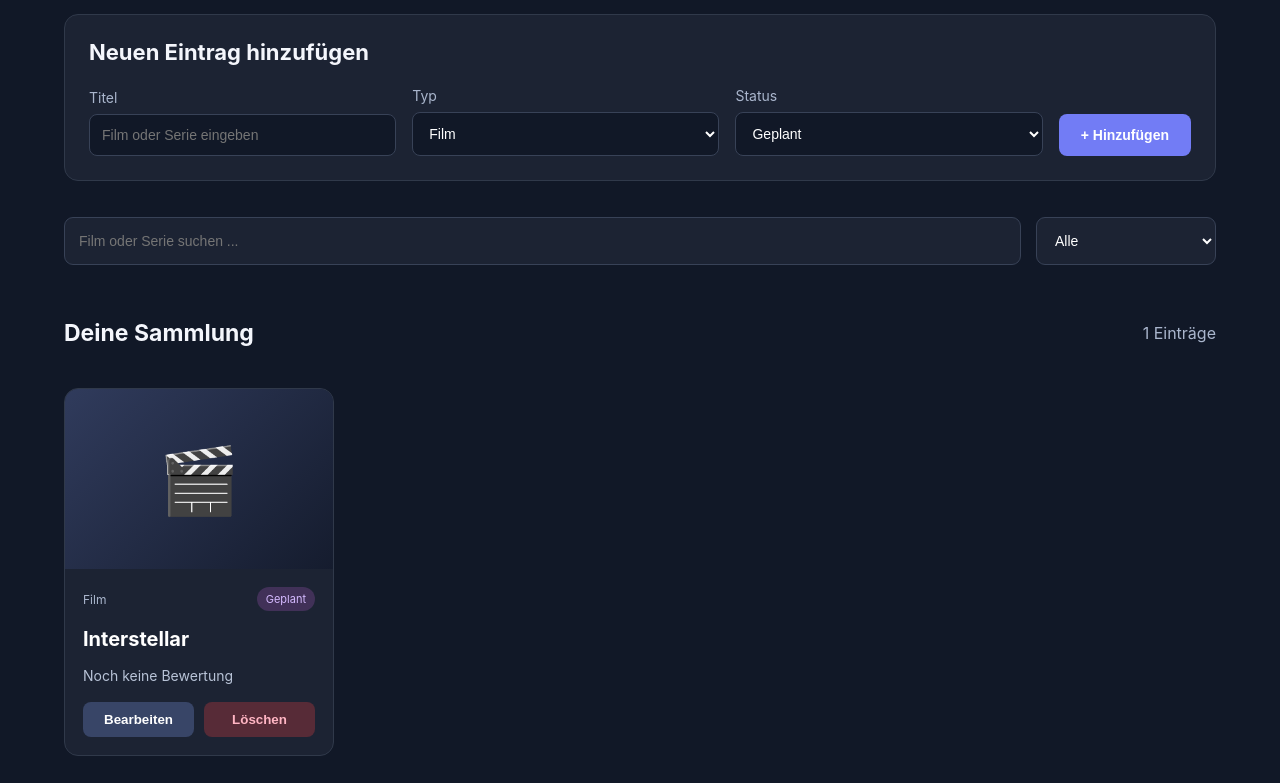
Test: MyWatchlist – Frontend › zeigt Validierungsfehler beim Bearbeiten und behält die Eingabe
The width and height of the screenshot is (1280, 783).
(page scrolled)
Click the button with class "edit-button" at (138, 720), box [83,702,194,737]
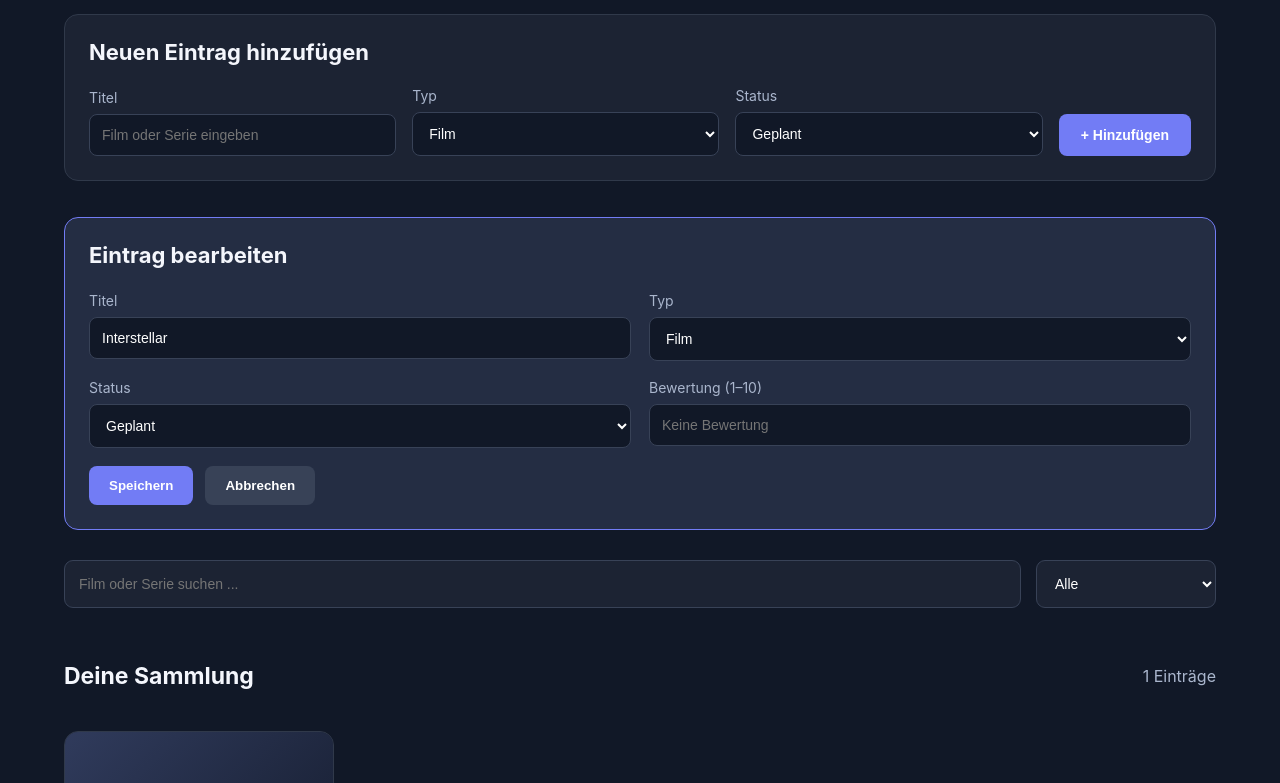
Replace the text in the field with id "edit-title" with "Neuer Titel" at (360, 338), box [89,317,631,359]
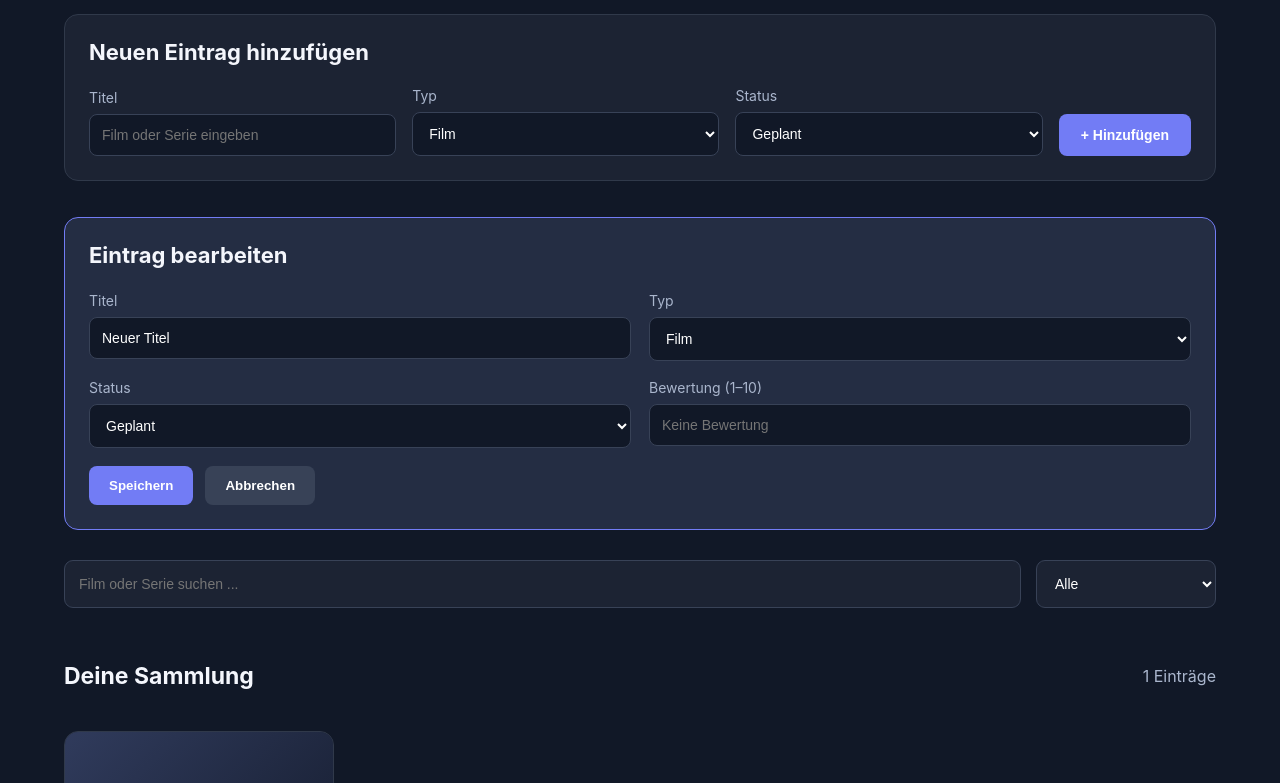
Submit the form "Titel Typ Status Bewertung (1–10) Speichern Abbrechen", box [89,292,1191,505]
(page scrolled)
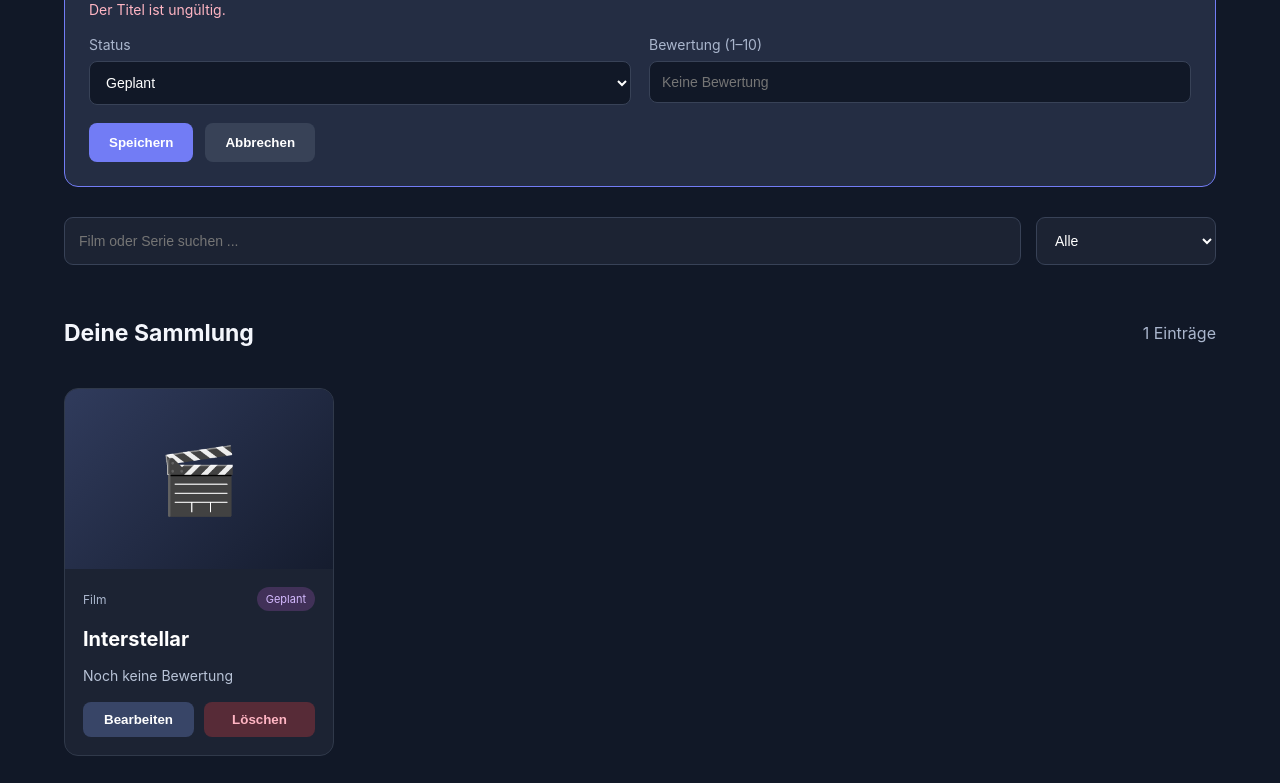
Expected: the element with class "watchlist-card" shows "Interstellar", [83,627,189,651]
Result: the text with id "edit-title-error" reads "Der Titel ist ungültig." at [89,1,226,18]
